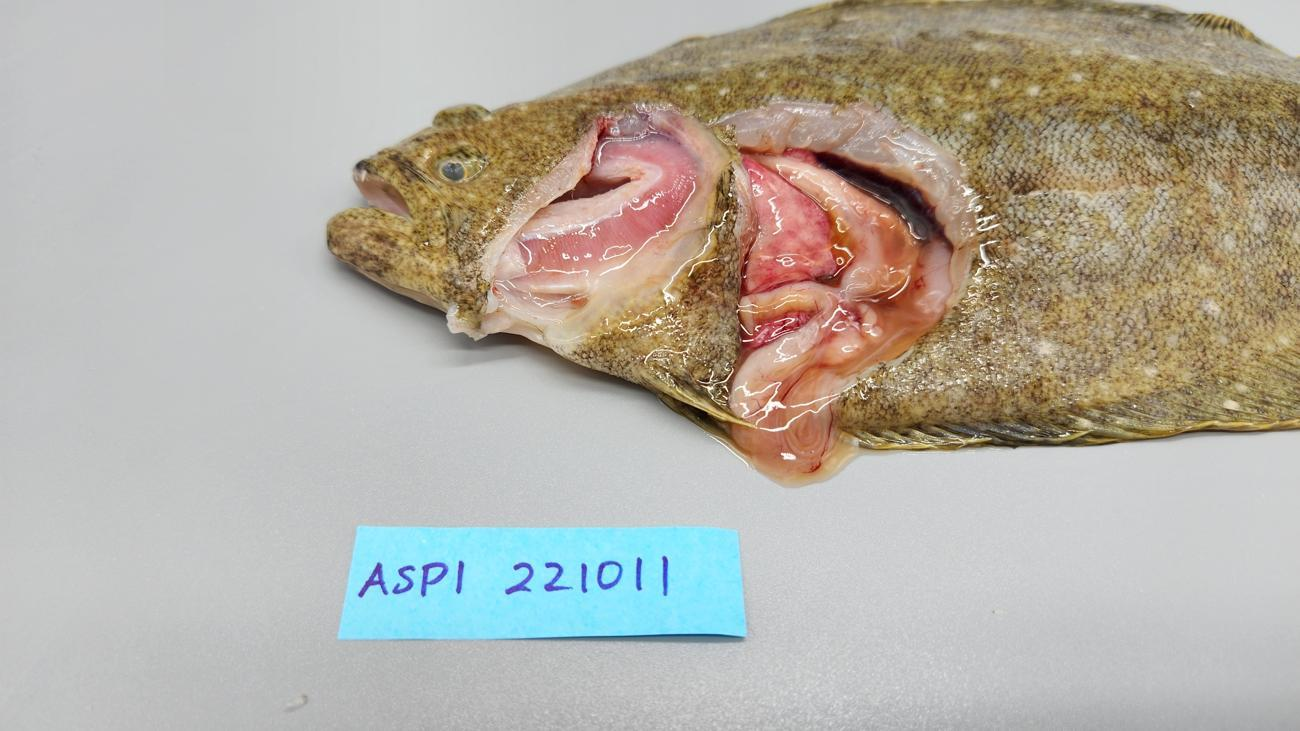SPGIP: (516, 132, 694, 279)
SPLIC: (742, 154, 837, 292)
